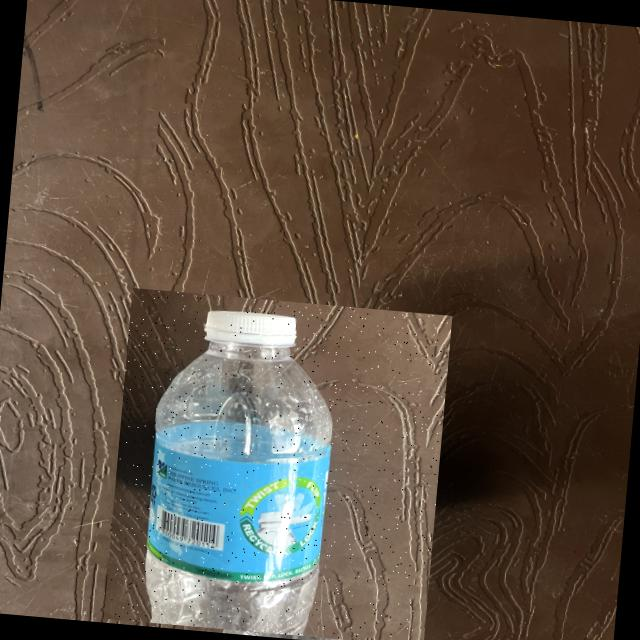REJECT: (103, 287, 452, 640)
